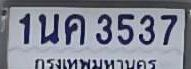1: (18, 12, 29, 43)
3: (95, 13, 111, 44), (138, 14, 154, 44)
5: (117, 13, 133, 44)
7: (160, 14, 176, 44)
A04: (64, 13, 84, 44)
A25: (38, 13, 58, 44)
BKK: (33, 55, 158, 69)
